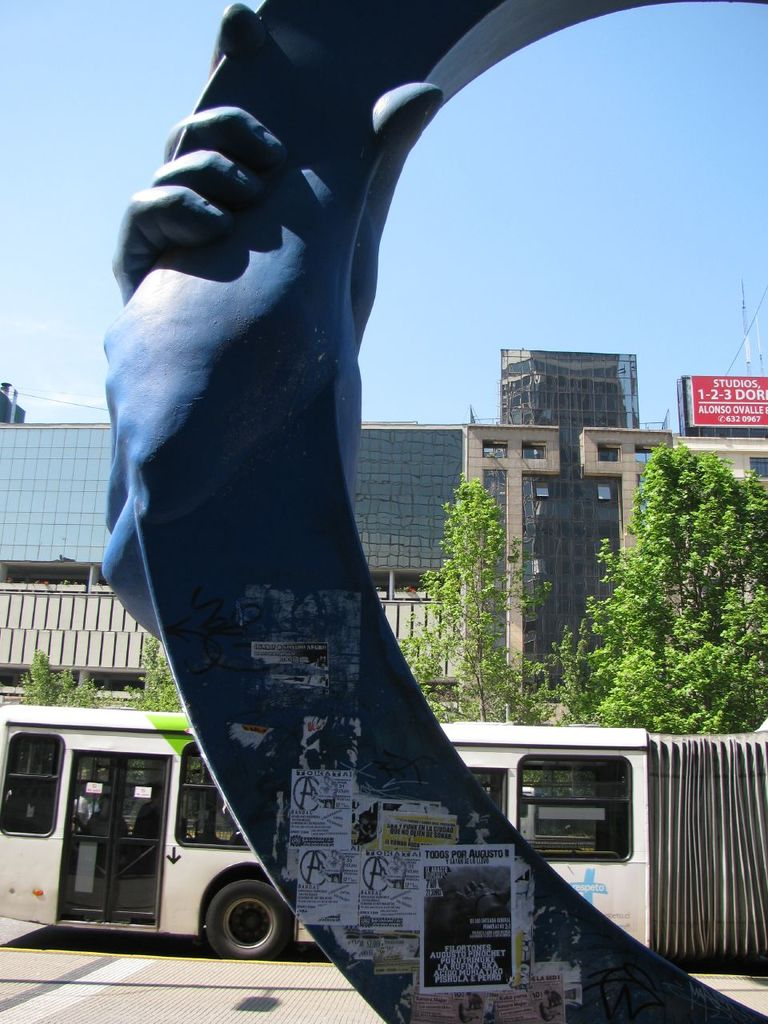Bus: (0, 700, 767, 967)
